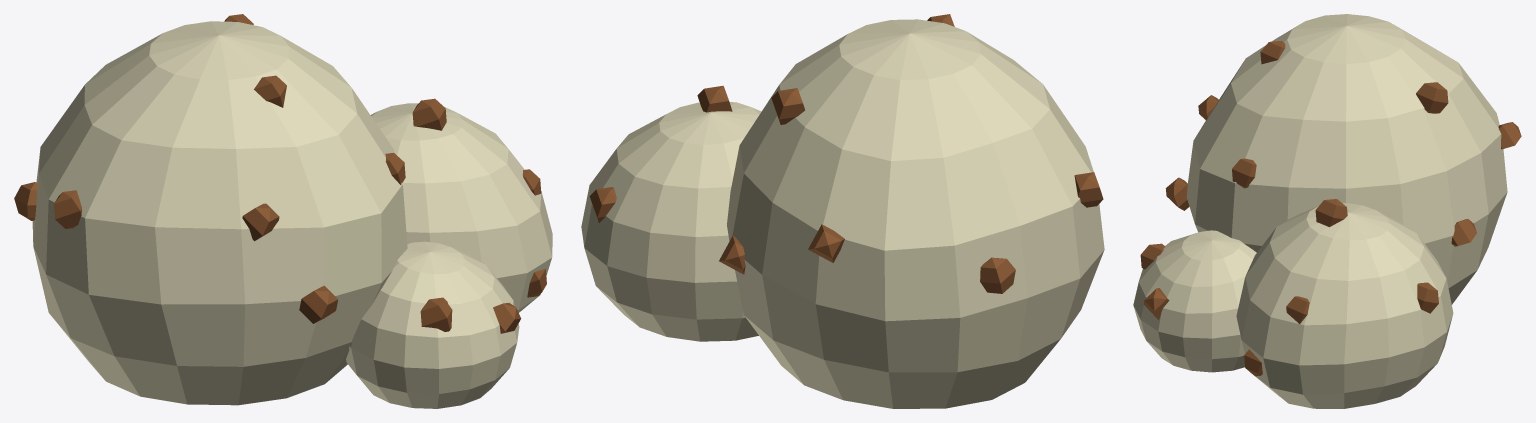
The model's file is iceCreamBush.fbx.
3 views of the same model, side by side, from view 1: azimuth 30°, elevation 25°; view 2: azimuth 150°, elevation 25°; view 3: azimuth 270°, elevation 25° (orthographic). The views are drawn at different scales.
Parts seen in each view (by area): view 1: Cylinder.002; view 2: Cylinder.002; view 3: Cylinder.002.
Boxes of the visible parts, x1,y1,x2,y2 form: Cylinder.002: (14, 14, 552, 408); Cylinder.002: (581, 14, 1104, 408); Cylinder.002: (1133, 14, 1521, 408).
Size of the model in its own units: 309 by 195 by 252.
